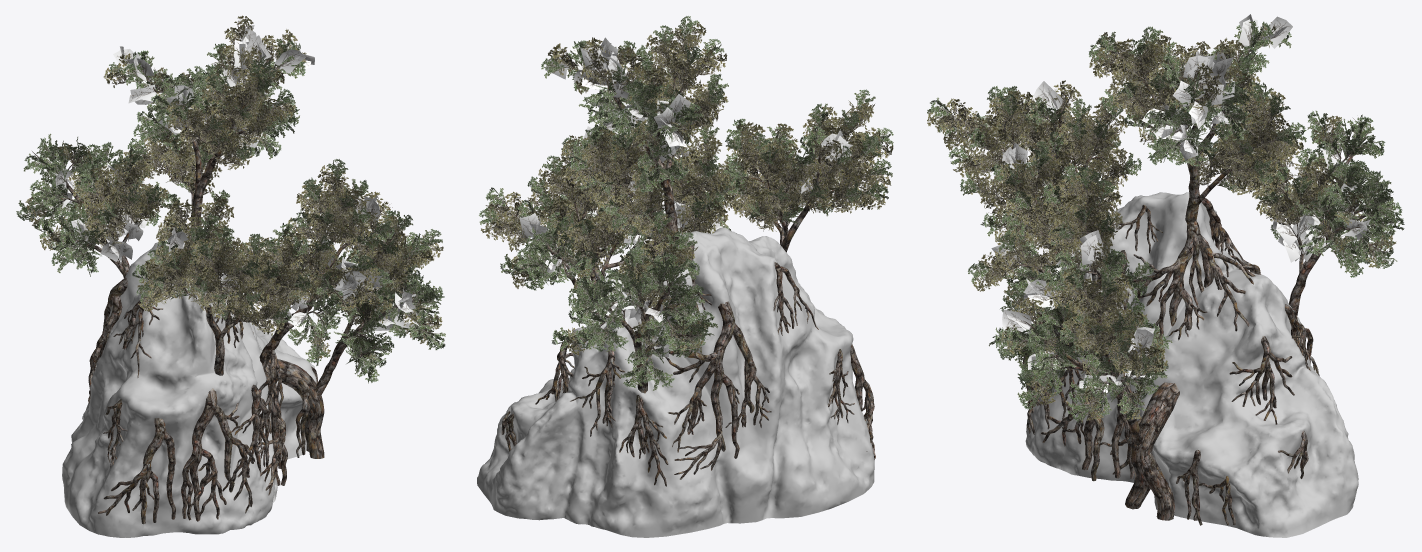
Rendered from StoneRock(part6).fbx.
3 views of the same model, side by side, from view 1: azimuth 30°, elevation 25°; view 2: azimuth 150°, elevation 25°; view 3: azimuth 270°, elevation 25° (orthographic). The views are drawn at different scales.
Parts seen in each view (by area): view 1: leaf2, rock, leaf3, wood, leaf1, leaf4; view 2: rock, leaf2, leaf3, wood, leaf1; view 3: rock, leaf2, leaf3, wood, leaf1, leaf4.
Boxes of the visible parts, bbox=[...] form: leaf2: bbox=[25, 15, 443, 360]; rock: bbox=[62, 227, 316, 537]; leaf3: bbox=[16, 38, 445, 383]; wood: bbox=[32, 37, 435, 524]; leaf1: bbox=[50, 25, 419, 332]; leaf4: bbox=[331, 290, 386, 372]; rock: bbox=[477, 227, 874, 537]; leaf2: bbox=[480, 23, 893, 356]; leaf3: bbox=[479, 16, 893, 390]; wood: bbox=[499, 36, 875, 486]; leaf1: bbox=[519, 37, 852, 356]; rock: bbox=[1025, 192, 1358, 537]; leaf2: bbox=[927, 22, 1396, 420]; leaf3: bbox=[927, 21, 1404, 422]; wood: bbox=[945, 35, 1398, 525]; leaf1: bbox=[991, 14, 1370, 393]; leaf4: bbox=[1010, 298, 1080, 379].
Size of the model in its own units: 1168 by 1302 by 1245.
